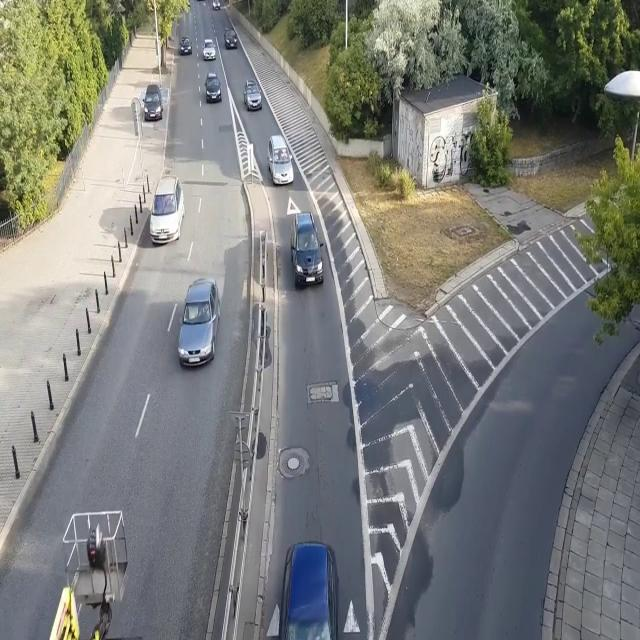car: (277, 538, 339, 640), (177, 276, 220, 370), (289, 212, 324, 288), (149, 176, 185, 244), (267, 135, 294, 185), (142, 84, 163, 122), (243, 80, 262, 111), (204, 72, 222, 104), (202, 38, 216, 61), (224, 28, 238, 50), (179, 36, 192, 55), (212, 0, 220, 11)
